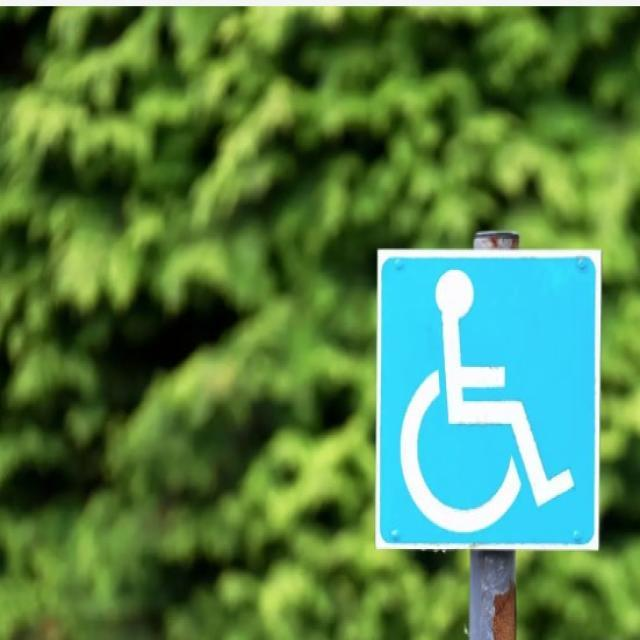symbol_of_access: (375, 245, 600, 550)
